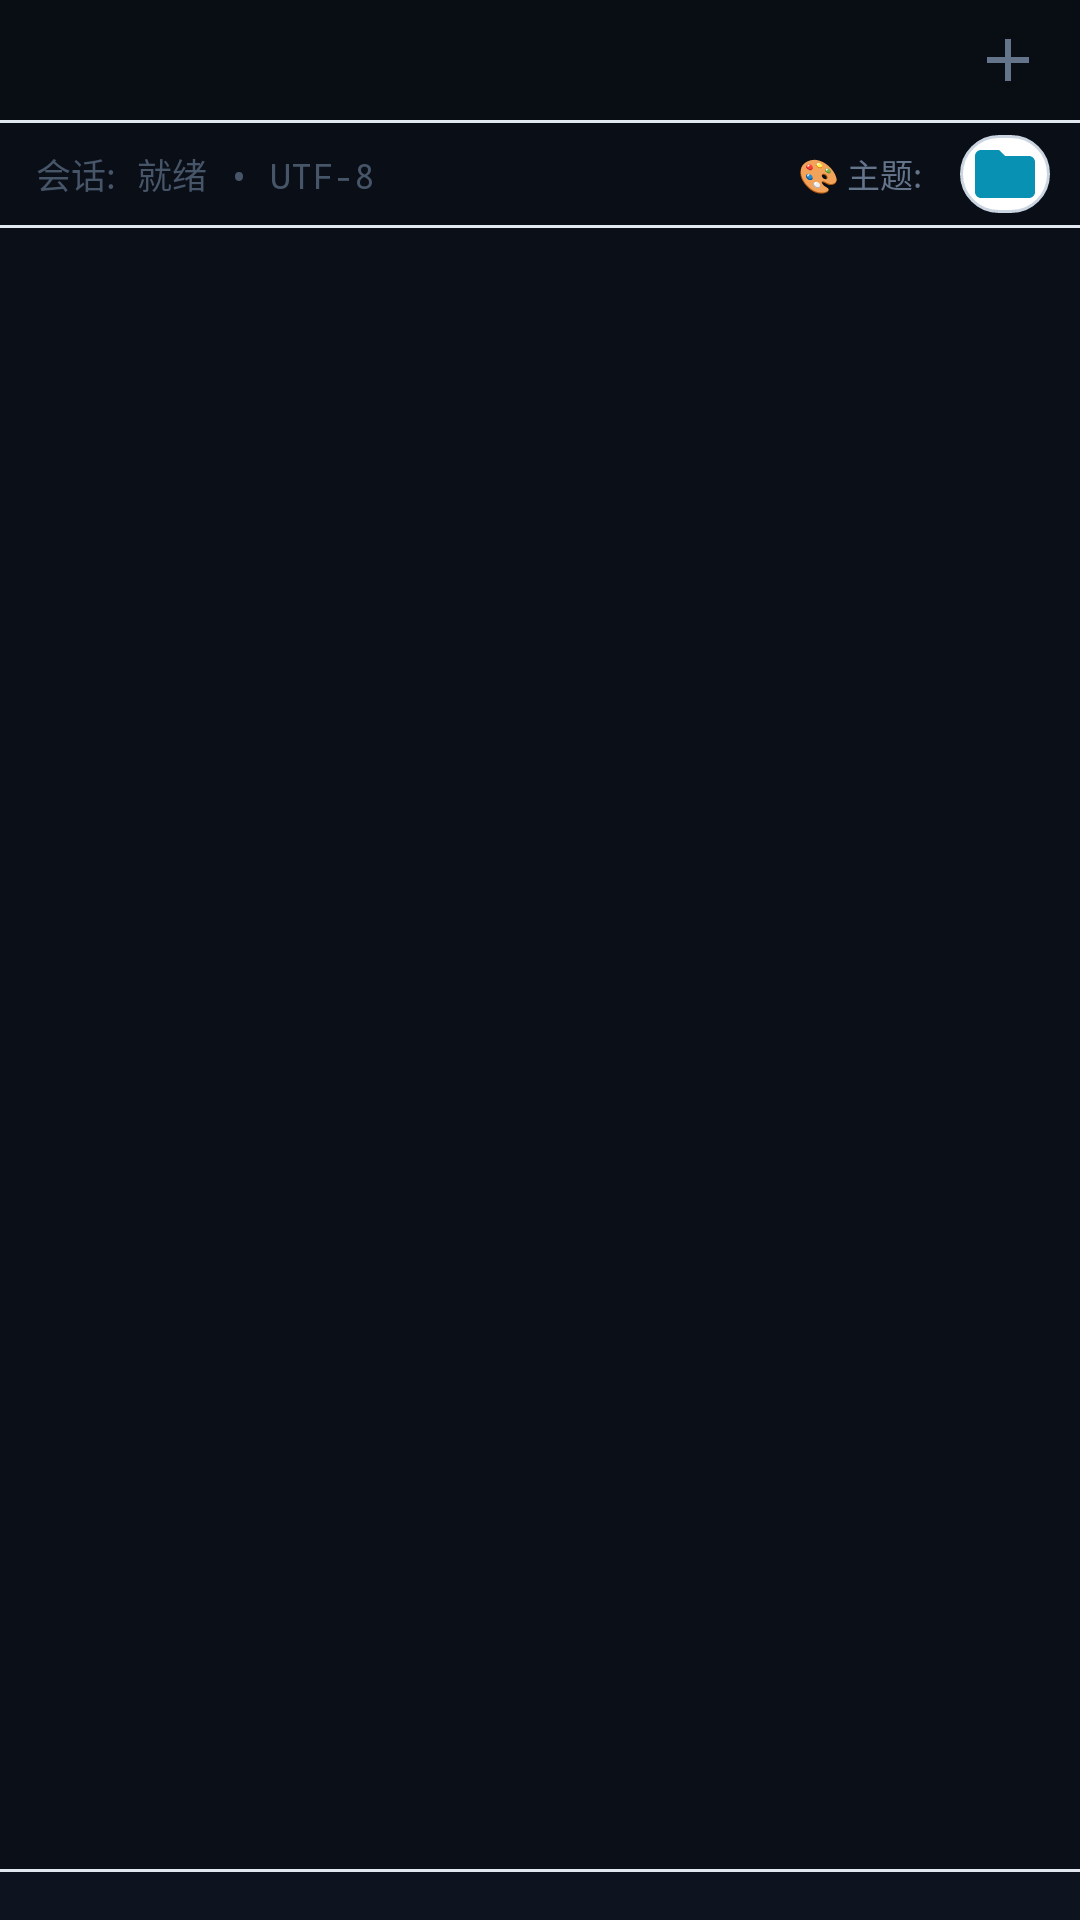

Icon click points for this 1080 x 1920 phone screenshot, format point (x, y):
SFTP 文件传输: point (1005, 174)
新建标签页: point (1008, 60)
